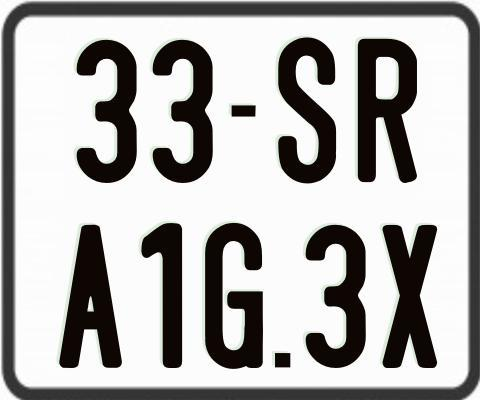1: (140, 223, 181, 370)
3: (76, 38, 141, 185), (151, 37, 215, 185), (304, 222, 368, 365)
A: (59, 224, 122, 372)
G: (204, 220, 268, 371)
R: (356, 37, 420, 181)
S: (275, 36, 333, 188)
X: (381, 224, 438, 373)
